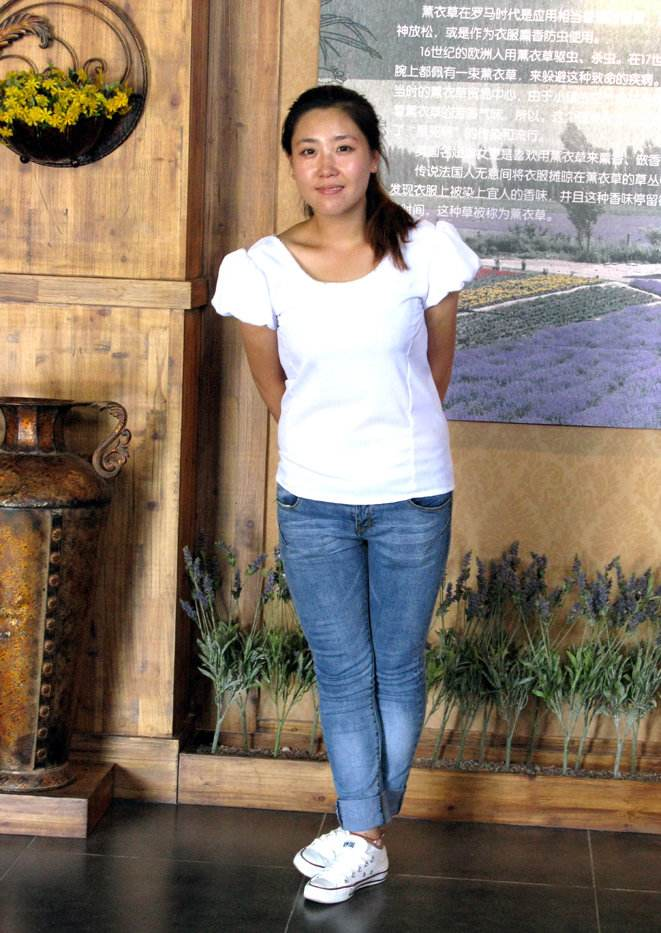person: (216, 45, 466, 933)
